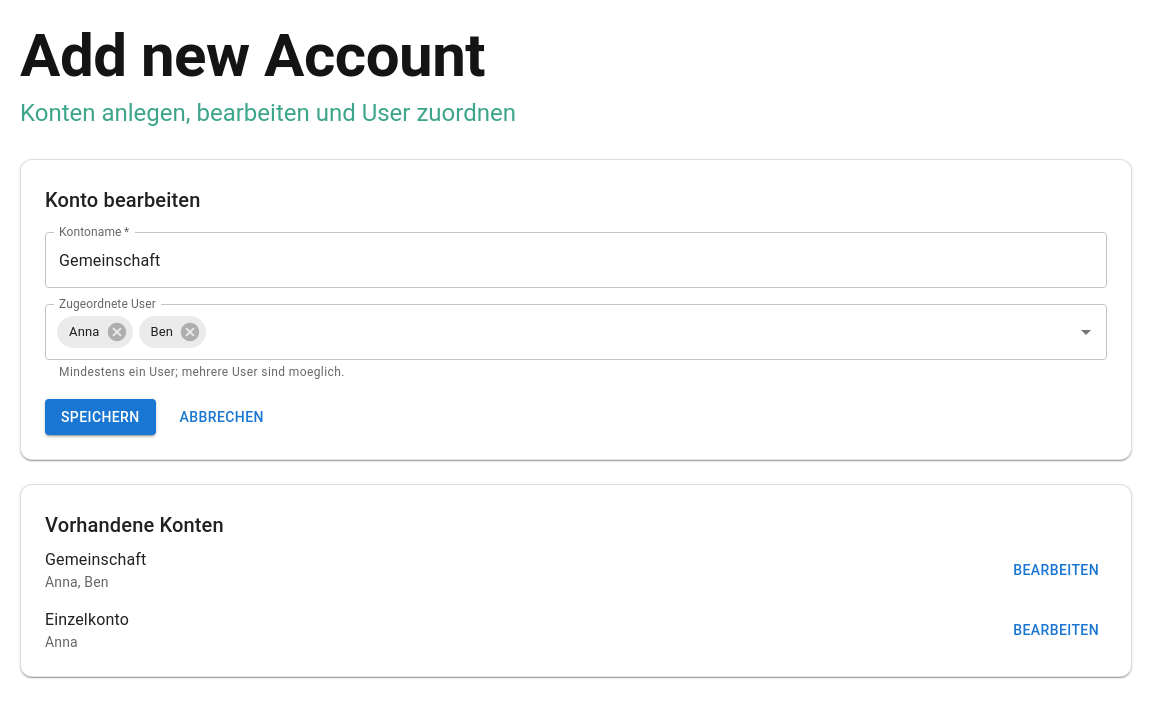
Test case: Add new Account edits the name and retains all assigned users
Step 1. Replace the text in the field labelled "Kontoname *" with "Haushaltskonto" → (576, 260), box left=45, top=232, right=1107, bottom=288
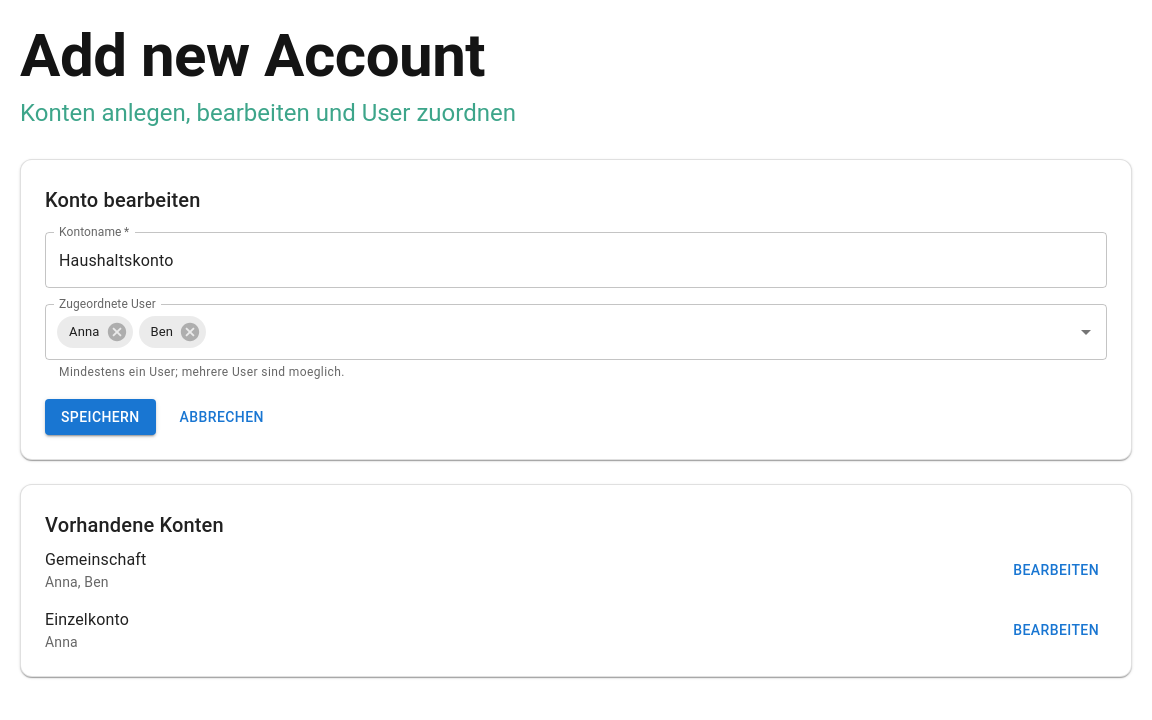
Step 2. Click the button "Speichern" → (100, 417), box left=45, top=399, right=156, bottom=435
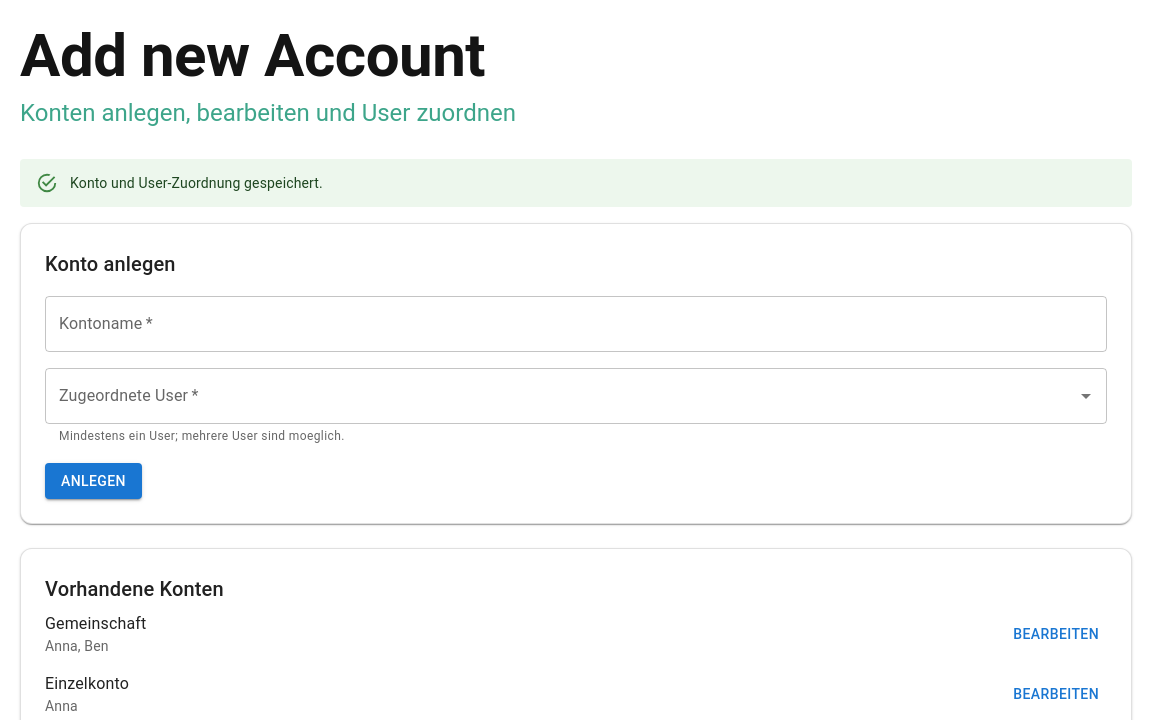
Check: the text "Konto und User-Zuordnung gespeichert." is shown, box left=70, top=175, right=323, bottom=191
